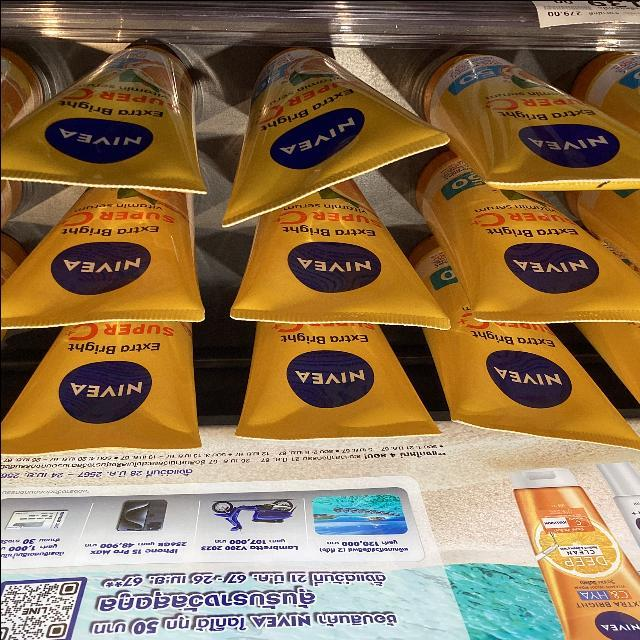Squeeze Tube: (0, 9, 640, 499)
